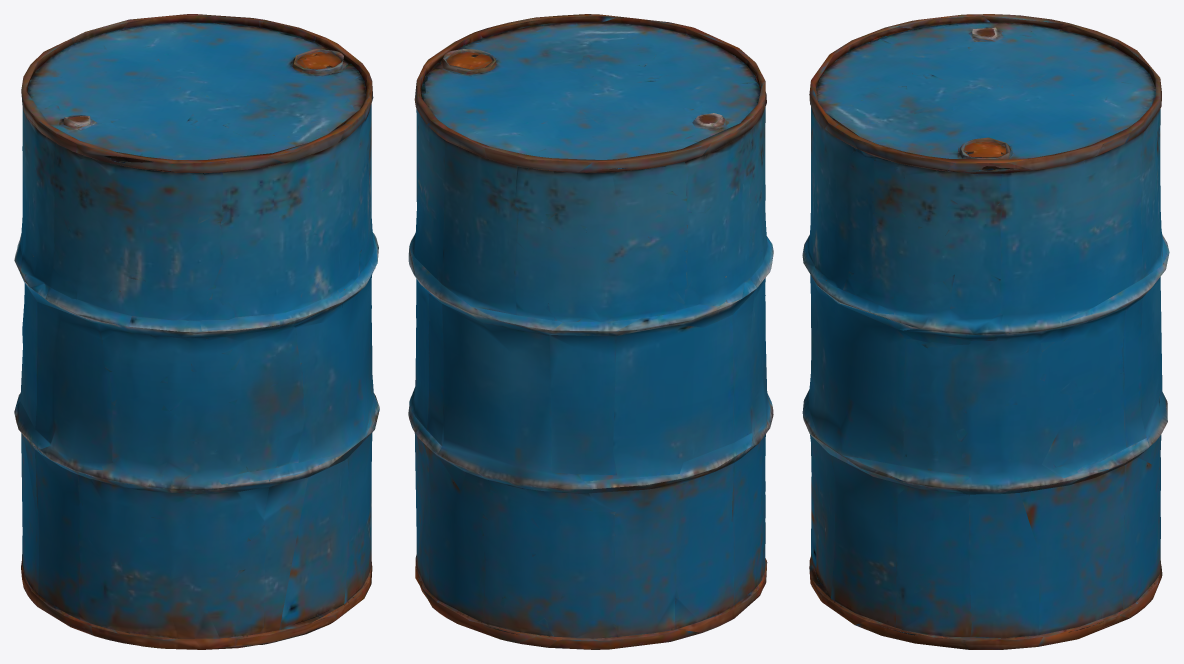
The model's file is permissive-5pct.glb.
3 renders of one model, left to right at view 1: azimuth 30°, elevation 25°; view 2: azimuth 150°, elevation 25°; view 3: azimuth 270°, elevation 25°, orthographic.
Parts seen in each view (by area): view 1: world; view 2: world; view 3: world.
Boxes of the visible parts, left/top/right/bottom form: world: left=14, top=14, right=379, bottom=649; world: left=408, top=14, right=773, bottom=649; world: left=802, top=14, right=1169, bottom=649.
Size of the model in its own units: 0.6835 by 1 by 0.6835.
1 material, 1 textured.
